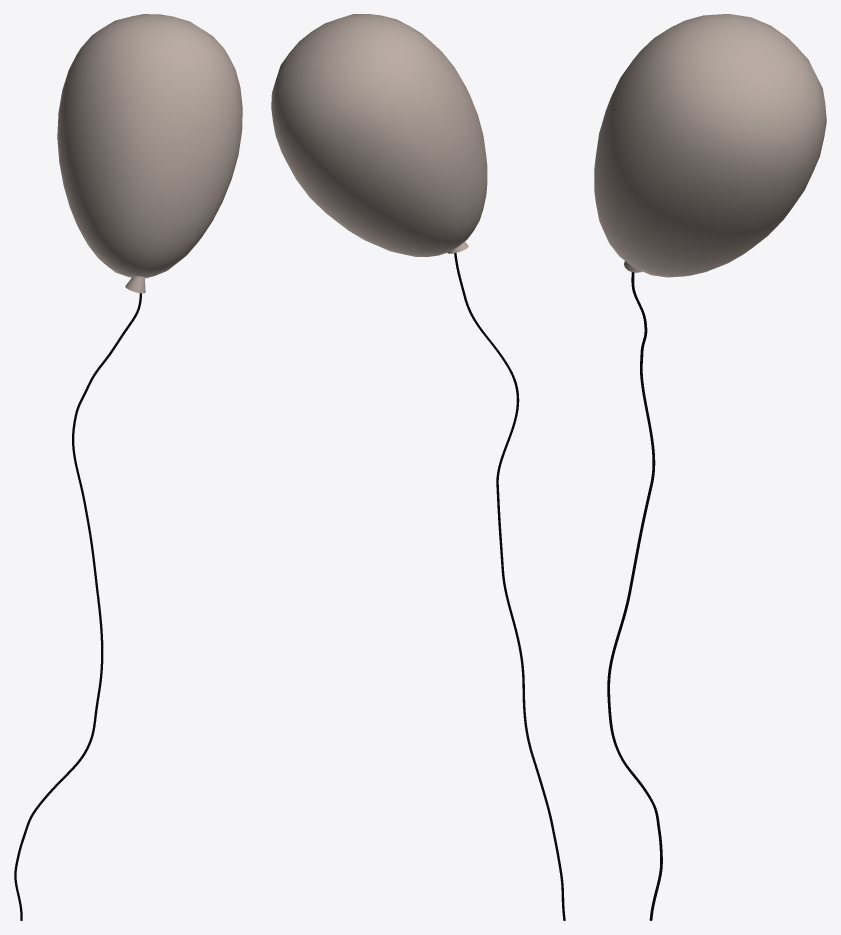
File: globo3.fbx
The picture shows the model from 3 angles, left to right: view 1: azimuth 30°, elevation 25°; view 2: azimuth 150°, elevation 25°; view 3: azimuth 270°, elevation 25°; orthographic projection. The views are drawn at different scales.
Parts seen in each view (by area): view 1: pCube4, defaultBrush1Main3; view 2: pCube4, defaultBrush1Main3; view 3: pCube4, defaultBrush1Main3.
Boxes of the visible parts, <box> form: pCube4: <box>57,14,242,278</box>; defaultBrush1Main3: <box>14,293,141,920</box>; pCube4: <box>271,14,487,256</box>; defaultBrush1Main3: <box>454,253,565,920</box>; pCube4: <box>594,14,826,277</box>; defaultBrush1Main3: <box>607,272,662,920</box>.
Size of the model in its own units: 2.86 by 9.5 by 2.03.
